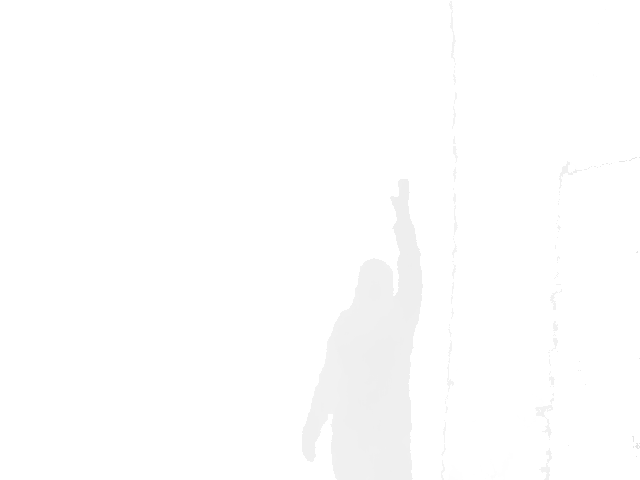hand: (387, 177, 411, 208)
head: (353, 258, 395, 305)
person: (300, 177, 425, 480)
